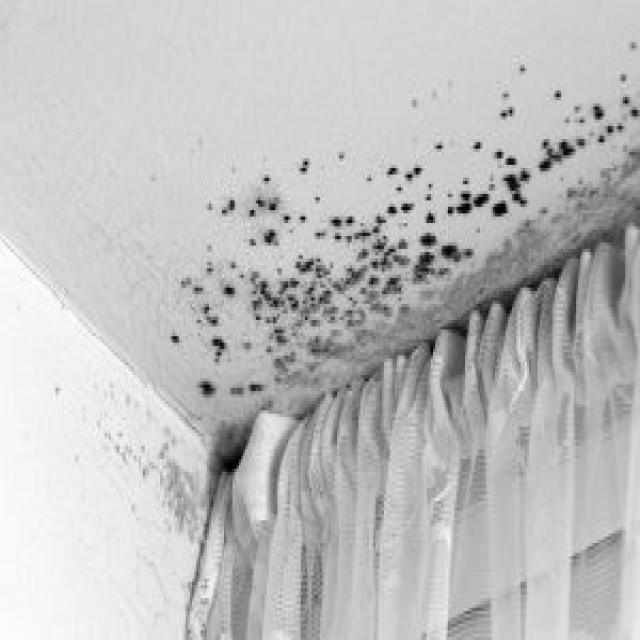stain marks: (294, 75, 474, 384), (160, 168, 312, 426), (448, 29, 636, 226), (50, 366, 198, 556)
